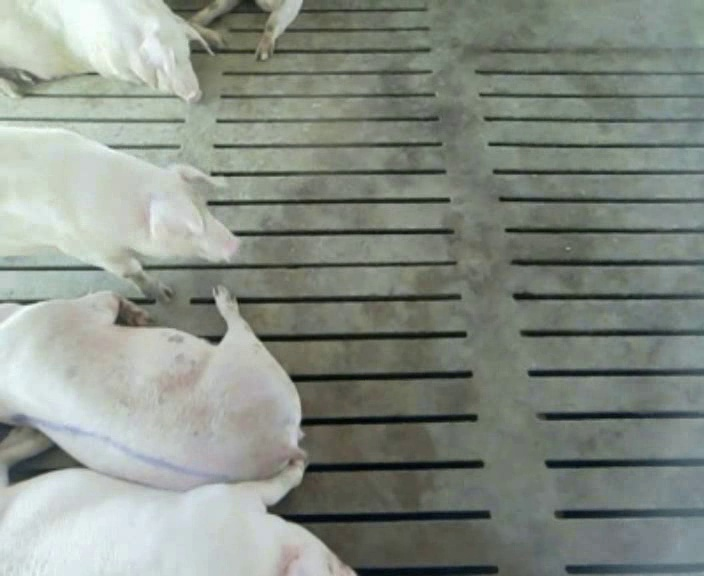pig: (0, 288, 303, 489)
